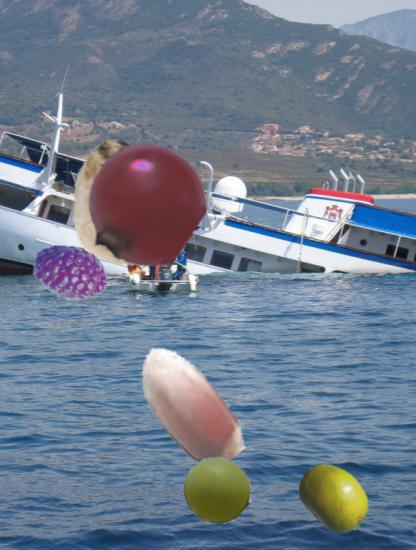Grape: (182, 456, 251, 525)
Hazelnut: (118, 336, 258, 476)
Pomelo: (297, 460, 372, 535)
Potato: (69, 140, 199, 270)
Raspberry: (32, 235, 109, 312)
Redcurrant: (81, 143, 206, 268)
